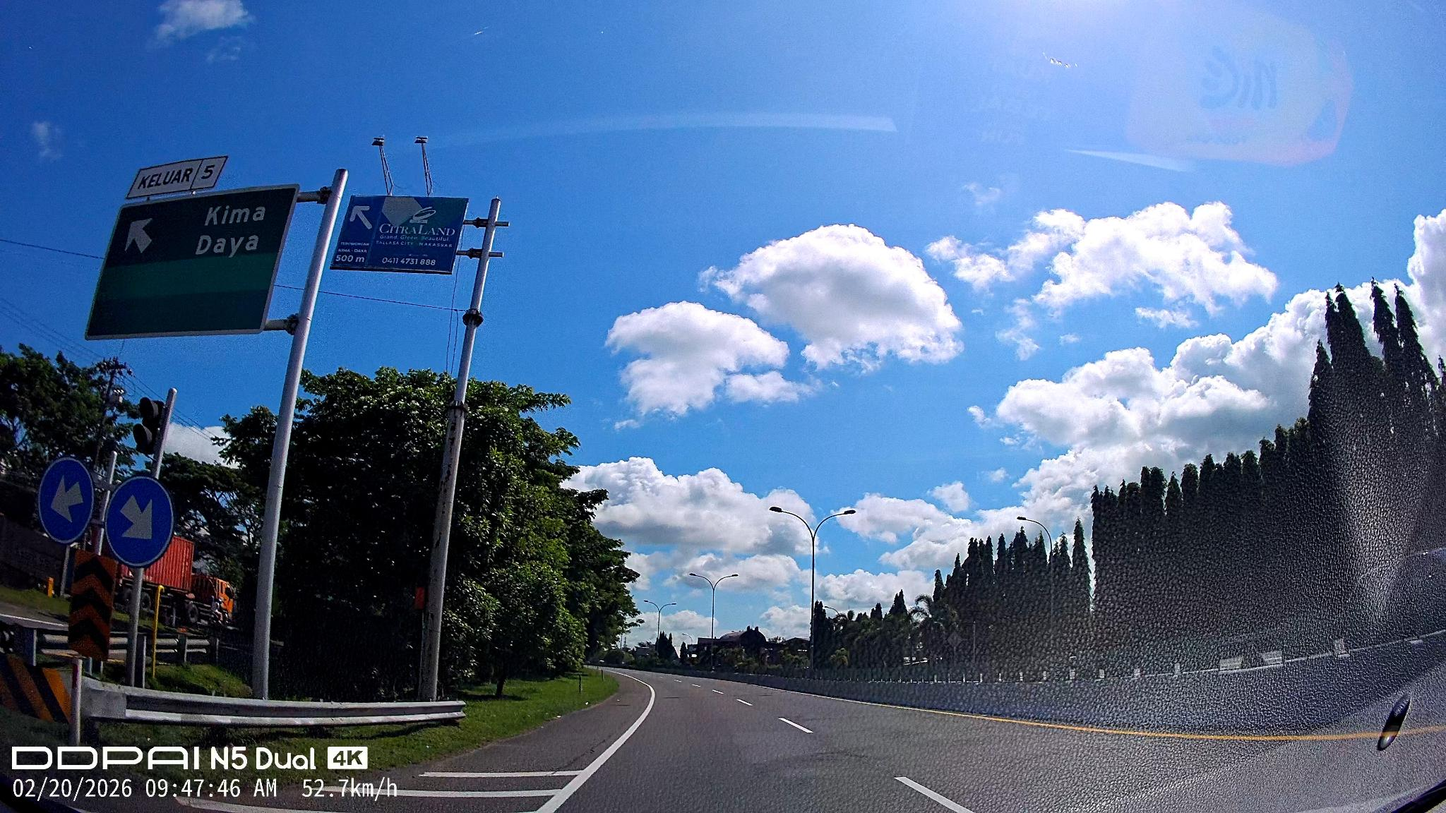rambu_teks: (84, 181, 302, 337)
